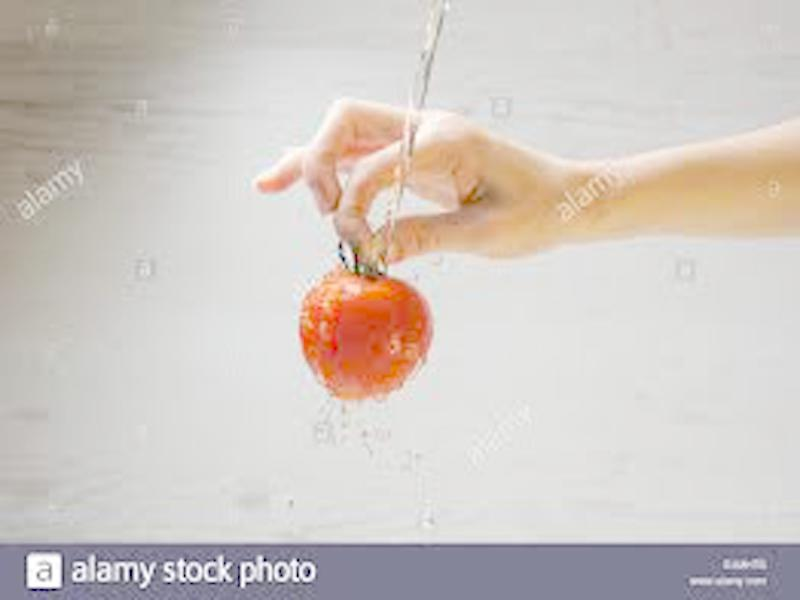Tomato: (302, 272, 437, 403)
